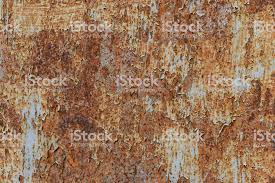rust: (1, 1, 275, 179)
